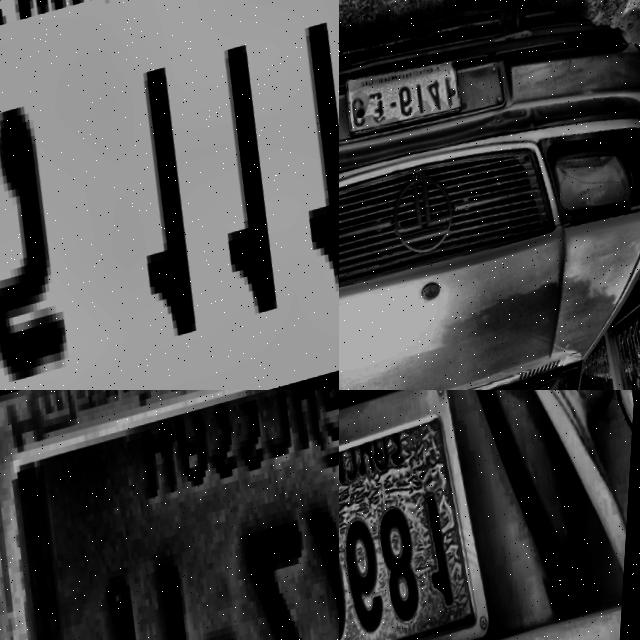license-plate: (0, 0, 339, 390), (0, 390, 339, 640), (339, 390, 513, 640), (339, 52, 469, 149)
